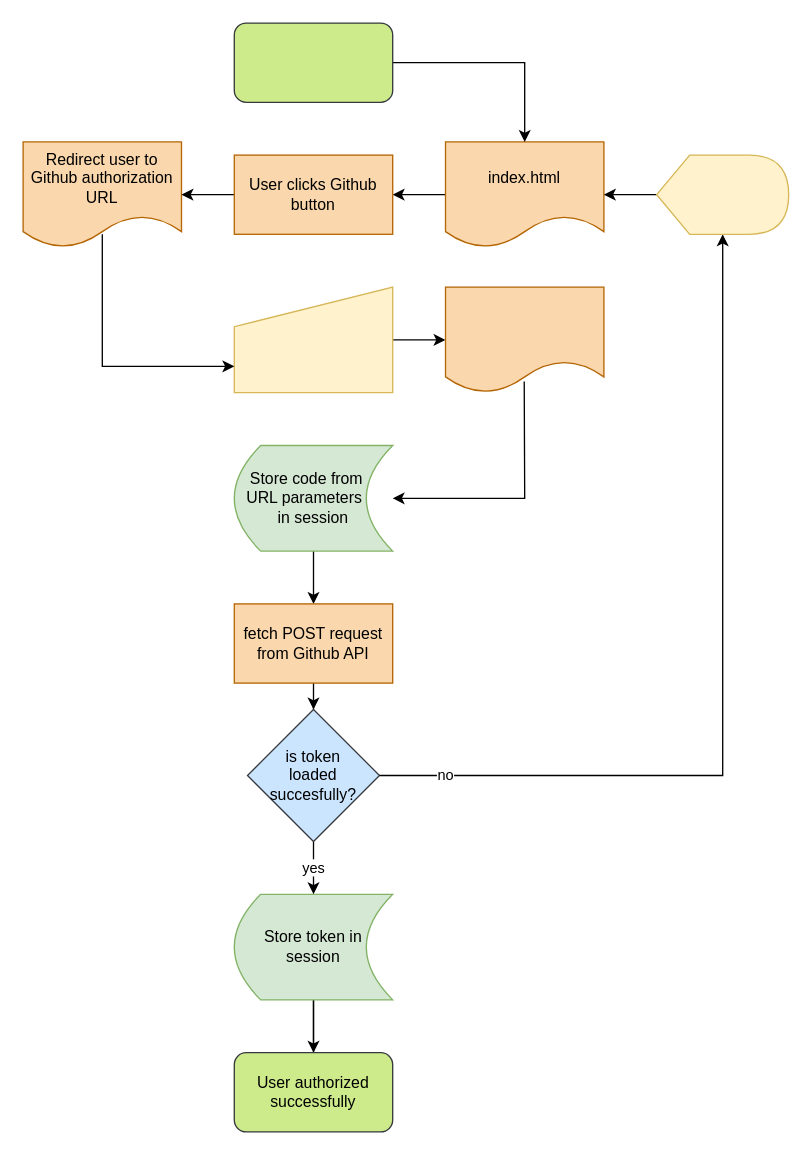
This 812x1155 diagram has some shape labels left out. The shapes that lost their labels are listed below. From the top down, each one's centre as x and y in pixels, then its label:
At point (313, 62): "Start githubAuthorization".
At point (722, 194): "Indicate authorization failure".
At point (313, 339): "User authorizes our application".
At point (524, 339): "Redirects to index.html".
